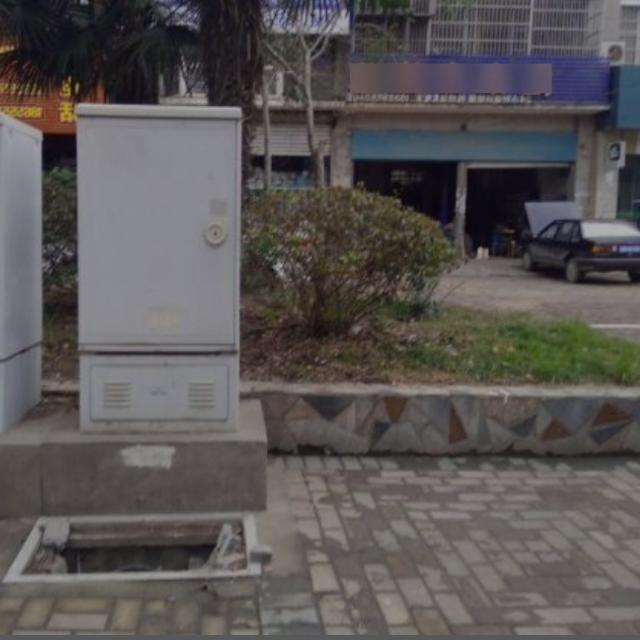lose: (3, 506, 261, 593)
